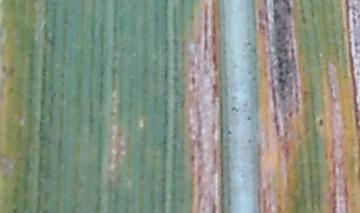tarspot: (329, 181, 336, 213), (209, 118, 217, 135), (300, 8, 307, 26), (46, 37, 57, 47), (209, 202, 218, 213), (189, 74, 197, 86), (43, 31, 49, 45), (317, 117, 325, 127), (229, 105, 238, 113), (2, 63, 8, 74), (41, 22, 48, 31), (189, 152, 195, 162), (341, 73, 347, 80), (225, 129, 232, 135), (246, 115, 252, 122), (266, 181, 270, 190), (190, 60, 195, 66), (247, 137, 252, 143)
